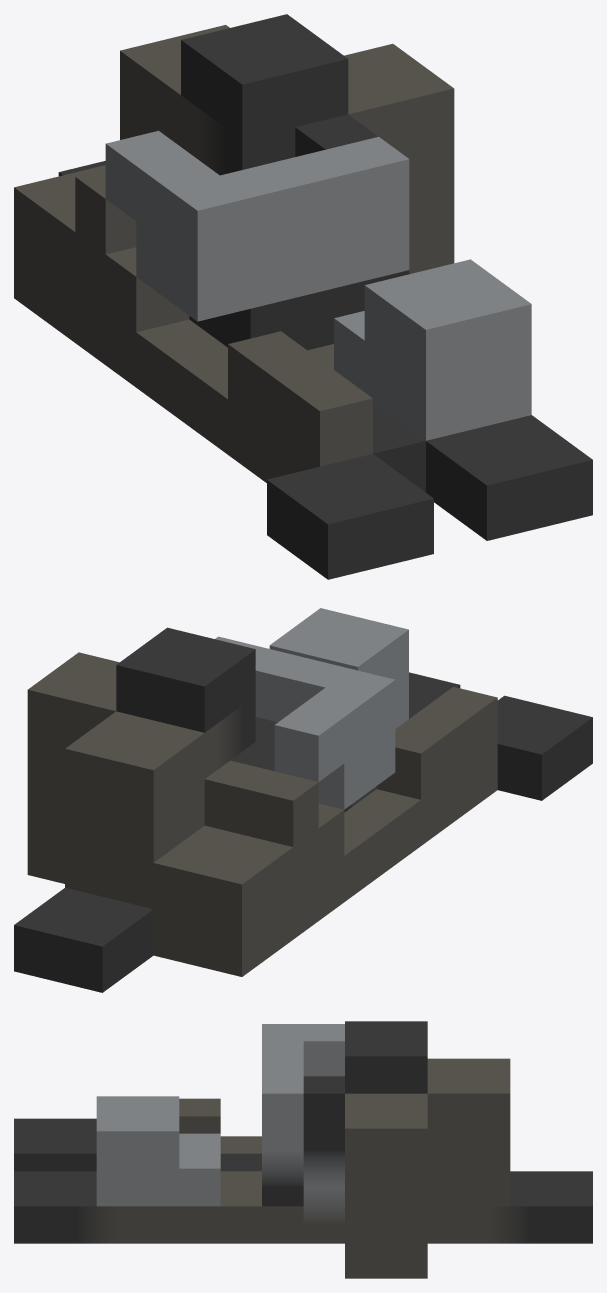
The model's file is Leg33.fbx.
3 renders of one model, top to bottom at view 1: azimuth 30°, elevation 25°; view 2: azimuth 150°, elevation 25°; view 3: azimuth 270°, elevation 25°, orthographic. The views are drawn at different scales.
Visible parts, largest first — view 1: Leg33; view 2: Leg33; view 3: Leg33.
Boxes of the visible parts, x1,y1,x2,y2 form: Leg33: (14, 14, 592, 579); Leg33: (14, 608, 592, 992); Leg33: (14, 1021, 592, 1278).
Bounding box in the file's own units: 35 × 25 × 70.
